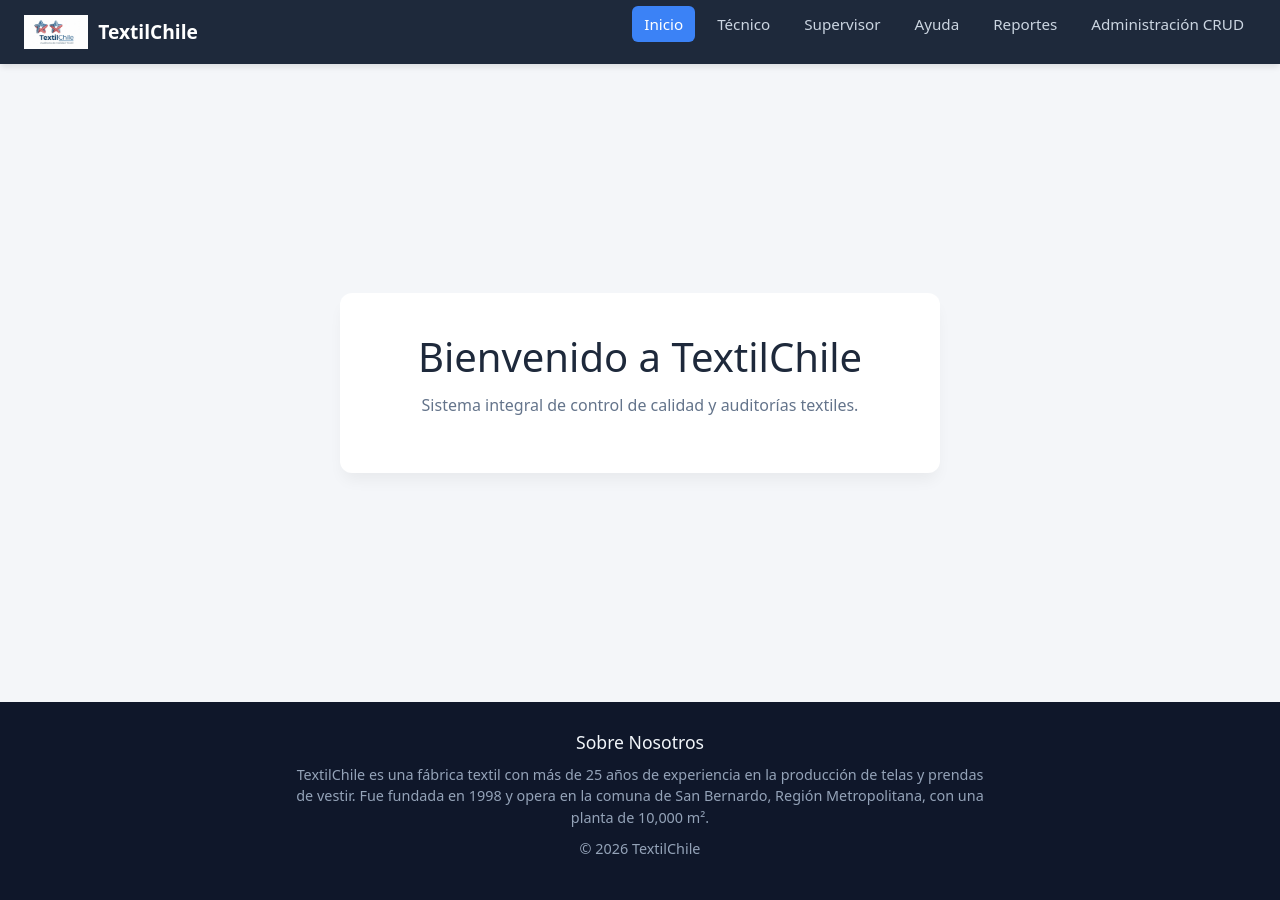
Test: Integración de Enrutamiento en App › Navega correctamente entre las diferentes páginas al hacer clic en el Navbar
The width and height of the screenshot is (1280, 900).
Expected: the heading "Bienvenido a TextilChile" is shown, [380,333,900,381]
// Navegar a Técnico
Click the link "Técnico" at point(744, 24), box [717,14,770,34]
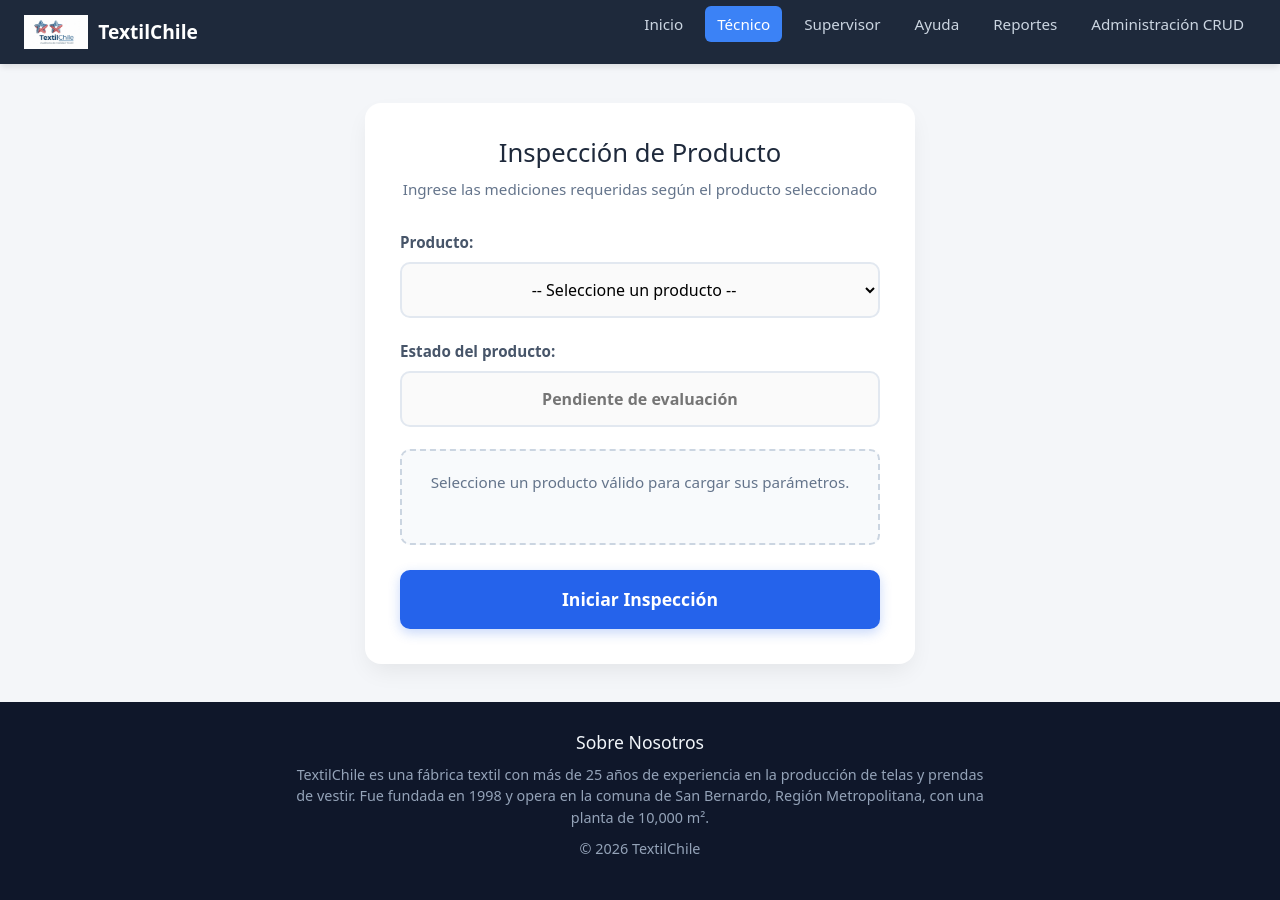
Expected: the heading "Inspección de Producto" is shown, [499,135,781,170]
// Navegar a Ayuda
Click the link "Ayuda" at point(937, 24), box [914,14,959,34]
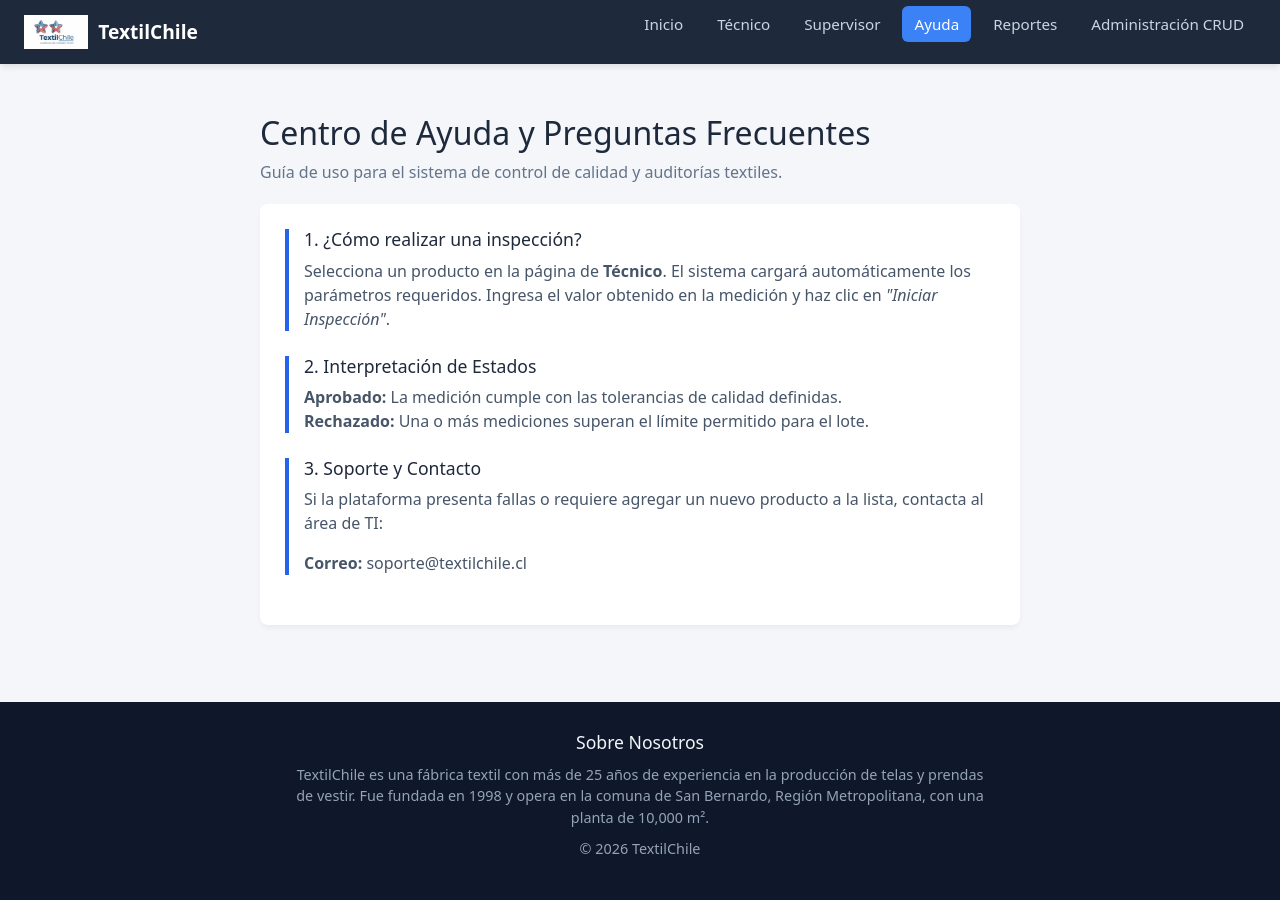
Expected: the heading "Centro de Ayuda y Preguntas Frecuentes" is shown, [260,111,870,154]
